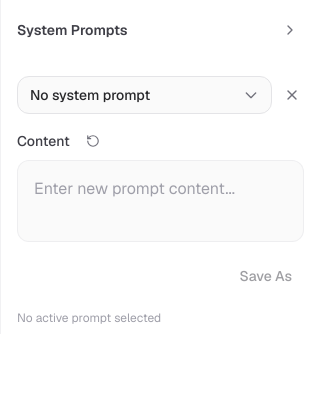
Scenario: RightSidebar › Unsaved changes › shows different message for new prompts
Type "New content" into the text box named "prompt content" at (160, 201), box [17,160,304,242]
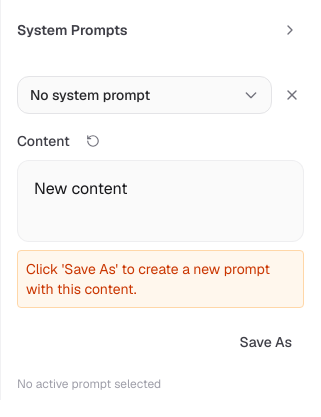
Expected: the text "Click 'Save As' to create a new prompt with this content." is shown, [17,250,304,308]
